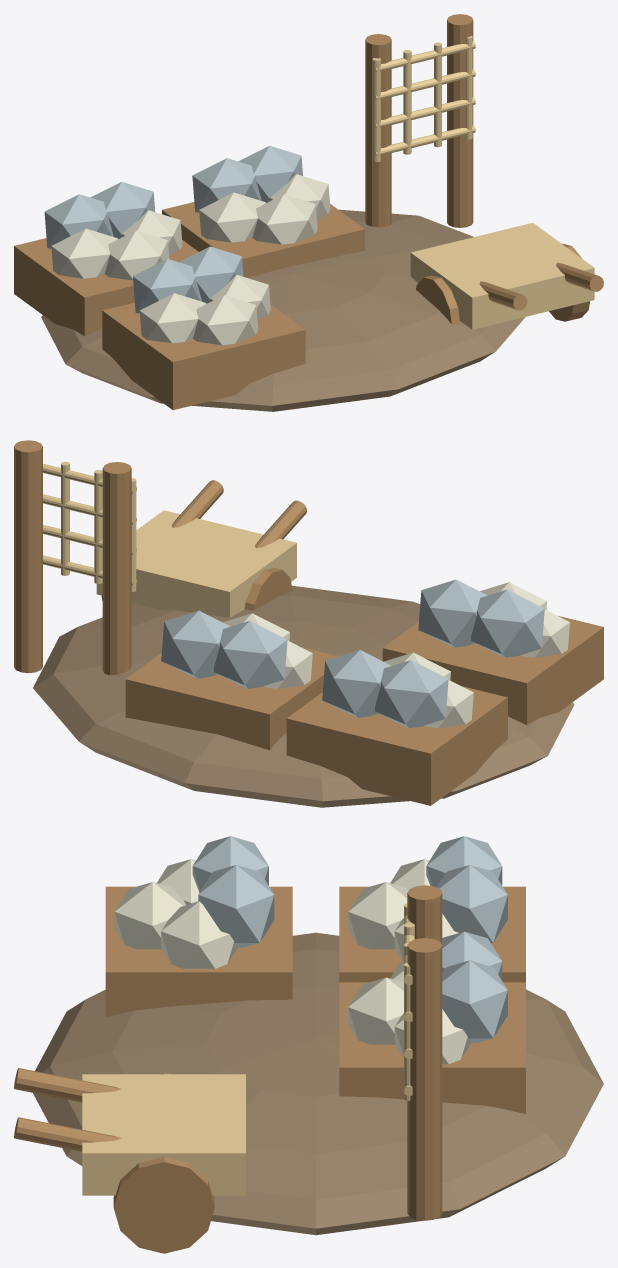
File: PebbleYard2.fbx
3 views of the same model, one above another, from view 1: azimuth 30°, elevation 25°; view 2: azimuth 150°, elevation 25°; view 3: azimuth 270°, elevation 25° (orthographic). The views are drawn at different scales.
Parts seen in each view (by area): view 1: Stone yard earth.001, Sorting bin.004, Handcart tray.001, Sorting bin.002, Sorting bin.003, Sieve stand.003, Sieve stand.002, Sorted pebble.017, Sorted pebble.022, Sorted pebble.019, Sorted pebble.014, Sorted pebble.024 (+22 smaller); view 2: Stone yard earth.001, Sorting bin.002, Handcart tray.001, Sorting bin.003, Sorting bin.004, Sieve stand.003, Sieve stand.002, Sorted pebble.016, Sorted pebble.021, Sorted pebble.011, Sorted pebble.023, Sorted pebble.013 (+17 smaller); view 3: Stone yard earth.001, Handcart tray.001, Sorting bin.004, Sorting bin.003, Sieve stand.003, Cart wheel.003, Sorting bin.002, Sorted pebble.023, Sorted pebble.018, Sorted pebble.013, Sorted pebble.020, Sorted pebble.022 (+12 smaller).
Part boxes in pixels (x1,y1,x2,y2): Stone yard earth.001: (41,209,525,411); Sorting bin.004: (102,302,305,410); Handcart tray.001: (410,223,594,329); Sorting bin.002: (14,238,198,336); Sorting bin.003: (162,202,364,277); Sieve stand.003: (447,14,473,227); Sieve stand.002: (365,34,391,227); Sorted pebble.017: (252,194,317,244); Sorted pebble.022: (193,295,258,345); Sorted pebble.019: (199,192,265,242); Sorted pebble.014: (51,228,117,278); Sorted pebble.024: (139,293,206,343); Stone yard earth.001: (33,585,574,807); Sorting bin.002: (286,686,507,805); Handcart tray.001: (96,510,296,617); Sorting bin.003: (125,646,338,750); Sorting bin.004: (382,616,603,725); Sieve stand.003: (14,440,42,673); Sieve stand.002: (102,462,131,675); Sorted pebble.016: (214,621,287,688); Sorted pebble.021: (471,589,544,657); Sorted pebble.011: (375,660,448,727); Sorted pebble.023: (418,579,487,647); Sorted pebble.013: (322,650,391,717); Stone yard earth.001: (33,932,603,1235); Handcart tray.001: (82,1074,245,1195); Sorting bin.004: (105,886,292,1016); Sorting bin.003: (339,982,525,1113); Sieve stand.003: (407,938,442,1220); Cart wheel.003: (113,1157,214,1253); Sorting bin.002: (339,886,525,982); Sorted pebble.023: (198,865,274,947); Sorted pebble.018: (442,960,507,1042); Sorted pebble.013: (436,865,507,943); Sorted pebble.020: (161,901,237,968); Sorted pebble.022: (114,882,186,949).
Size of the model in its own units: 176 by 91 by 152.
